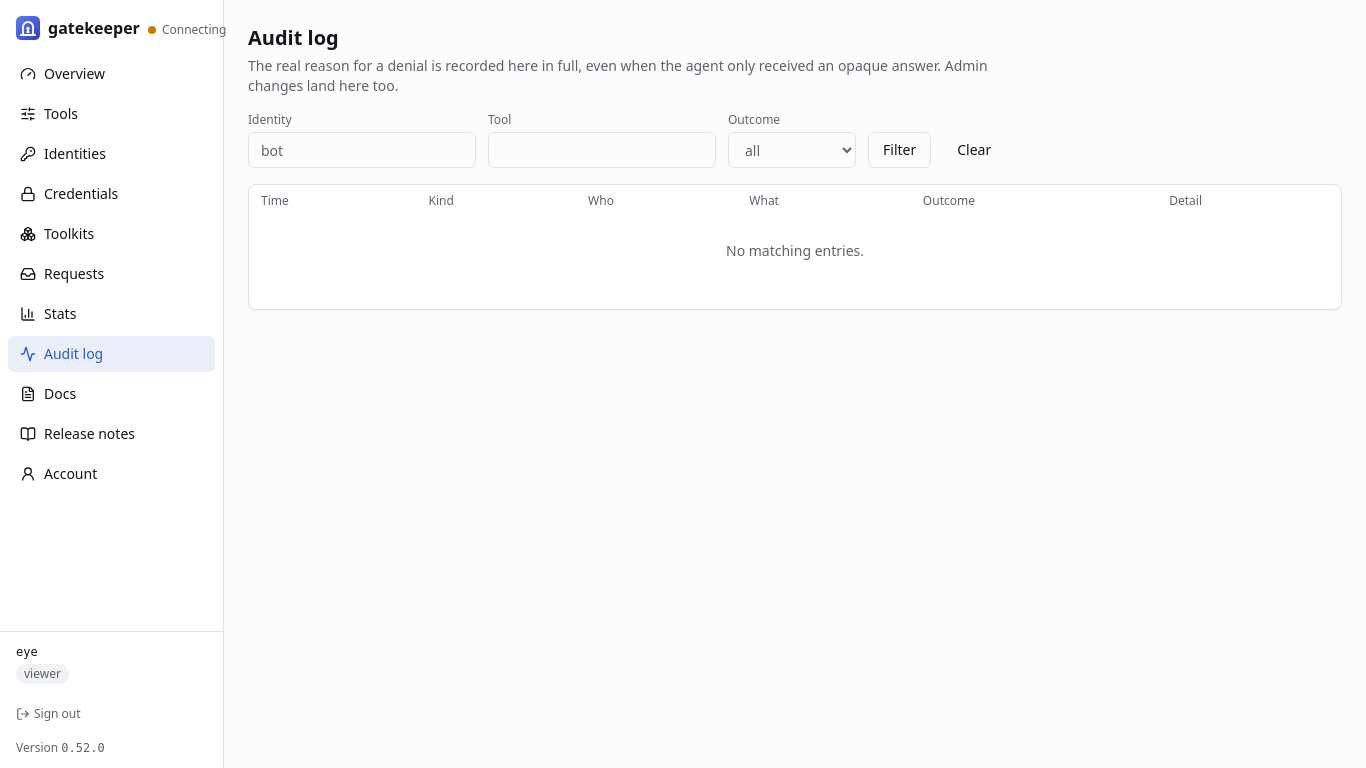
Test: ui review fixes › clears the audit filter
Expected: the field labelled "Identity" holds "bot", x1=248 y1=132 x2=476 y2=168
Click the button "Clear".
click(974, 150)  # box x1=943 y1=132 x2=1005 y2=168
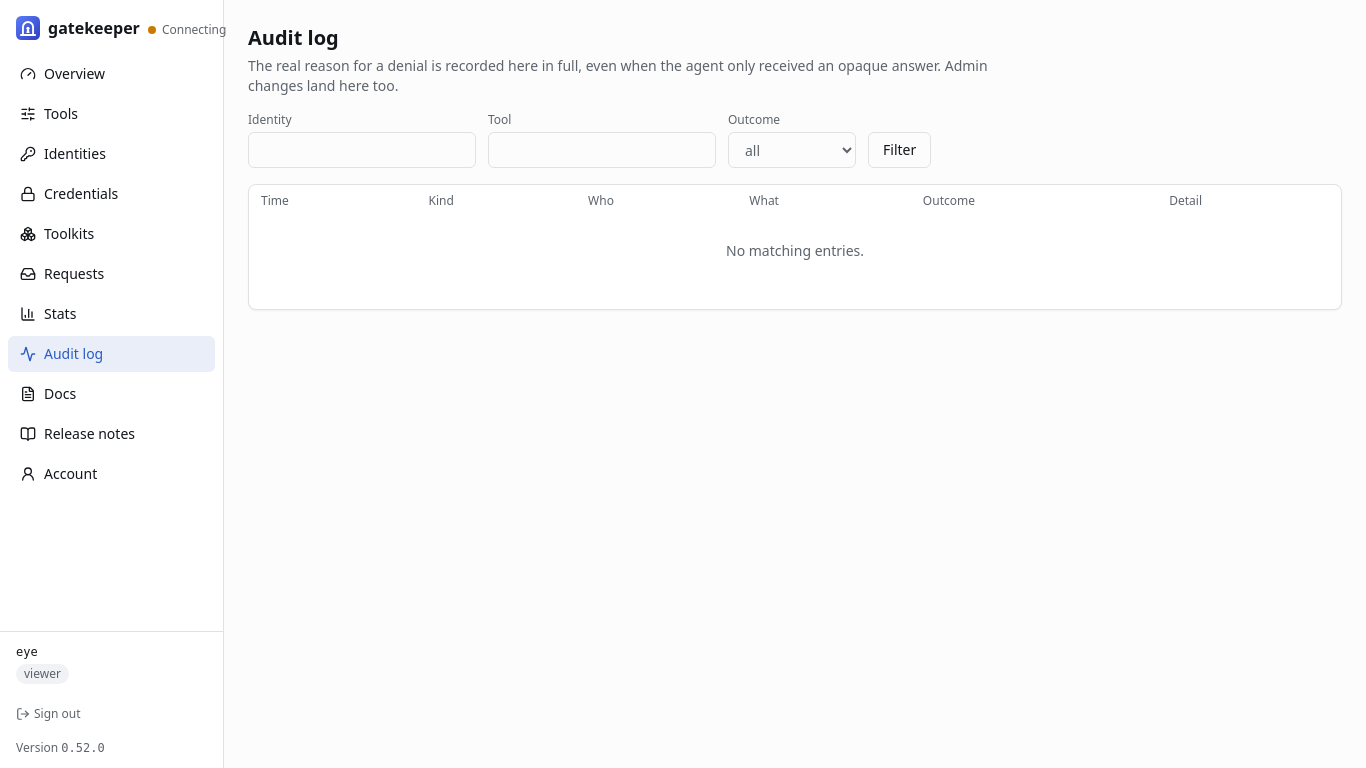
Now the field labelled "Identity" is empty, box x1=248 y1=132 x2=476 y2=168
Now the button "Clear" is gone
